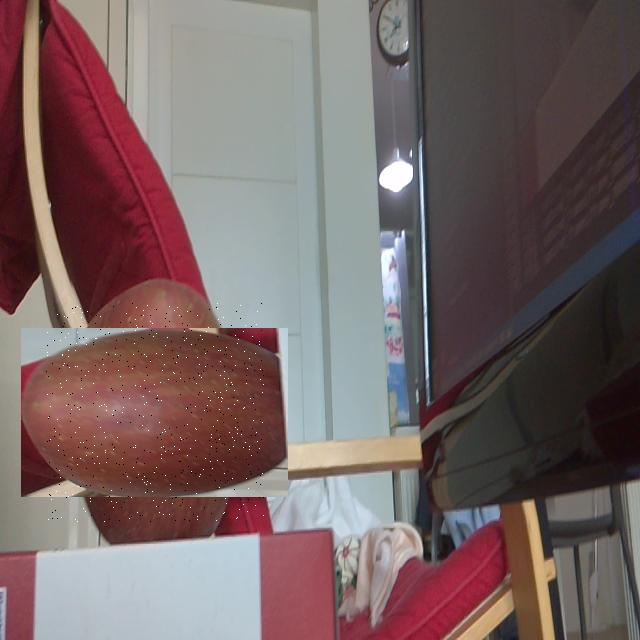apple: (46, 303, 264, 522)
